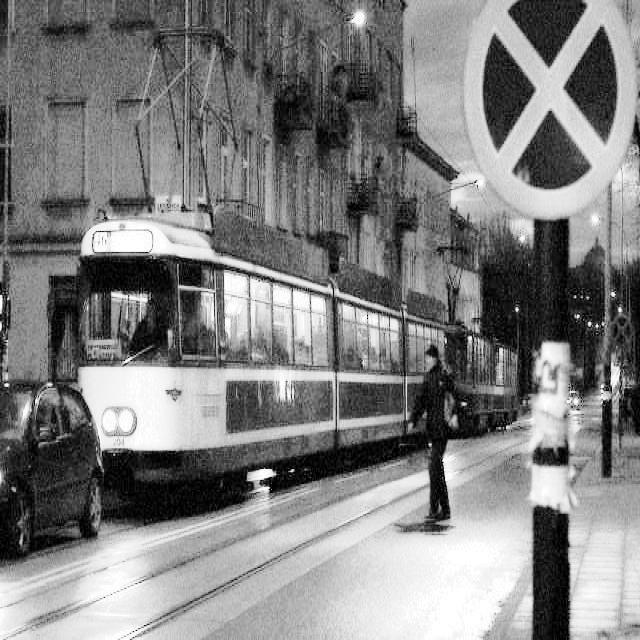Bus: (75, 187, 543, 511)
Car: (0, 368, 121, 599)
Person: (404, 328, 475, 586)
